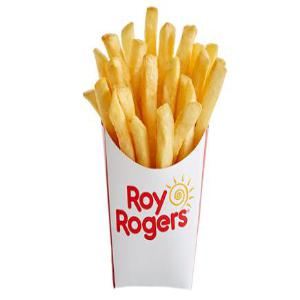fries_350cal: (79, 5, 238, 182)
